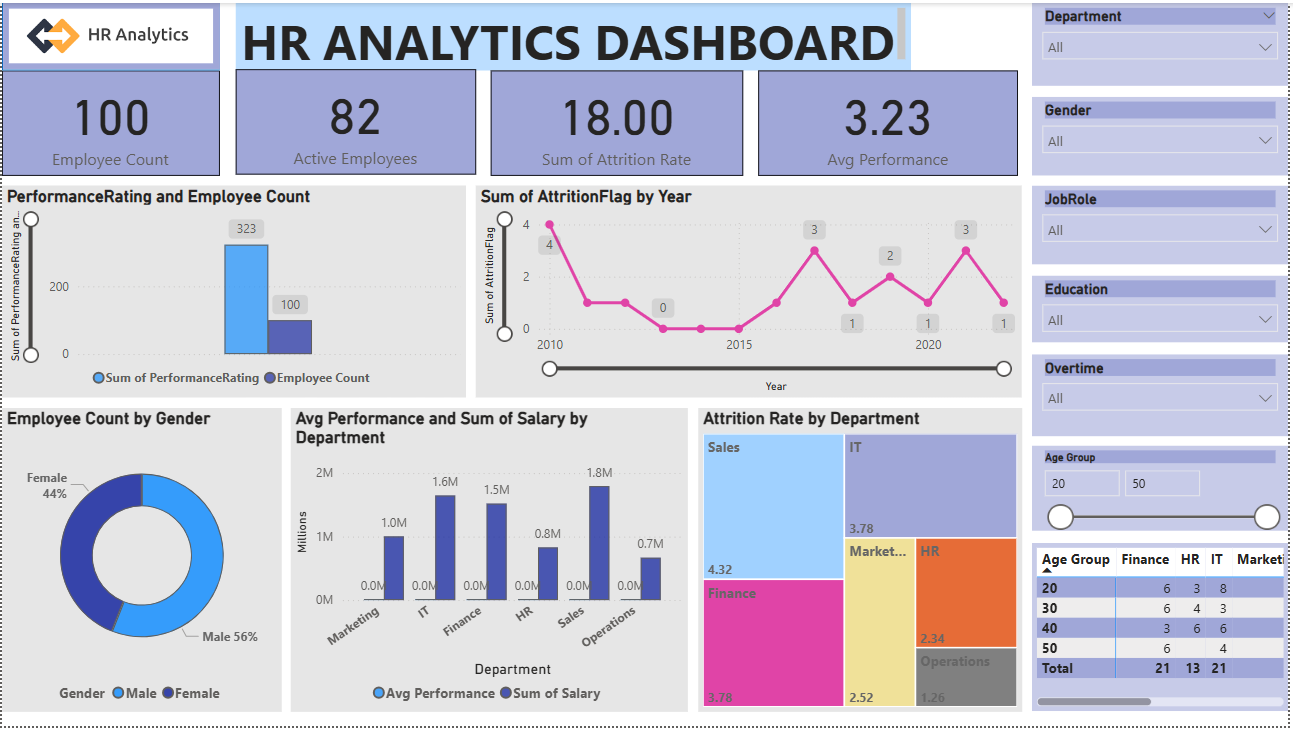

The dashboard page shown, as its layout file describes it:
{"tool":"powerbi","page":{"name":"Page 1","canvas":[1280,720],"ordinal":0},"visuals":[{"type":"textbox","box":[232.6,0,671.7,67.2],"z":0},{"type":"card","fields":{"Values":["Sheet1.Employee Count"]},"box":[0,67.2,216.4,104.5],"z":1000},{"type":"card","fields":{"Values":["Sheet1.Active Employees"]},"box":[232.6,65.9,238.8,104.5],"z":2000},{"type":"card","fields":{"Values":["Sum(Sheet1.Attrition Rate)"]},"box":[486.4,67.2,251.3,104.5],"z":3000},{"type":"card","fields":{"Values":["Sheet1.Avg Performance"]},"box":[752.6,67.2,258.7,104.5],"z":4000},{"type":"clusteredColumnChart","title":" PerformanceRating and Employee Count","fields":{"Y":["Sum(Sheet1.PerformanceRating)","Sheet1.Employee Count"]},"box":[0,181.2,461.2,210],"z":5000},{"type":"lineChart","fields":{"Category":["Sheet1.HireDate.Variation.Date Hierarchy.Year","Sheet1.HireDate.Variation.Date Hierarchy.Month"],"Y":["Sum(Sheet1.AttritionFlag)"]},"box":[472,181,543,210],"z":6000},{"type":"donutChart","fields":{"Category":["Sheet1.Gender"],"Y":["Sheet1.Employee Count"]},"box":[0,402.5,278.8,302.5],"z":7000},{"type":"clusteredColumnChart","fields":{"Category":["Sheet1.Department"],"Y":["Sheet1.Avg Performance","Sum(Sheet1.Salary)"]},"box":[287.5,402.5,395,302.5],"z":8000},{"type":"treemap","title":" Attrition Rate by Department","fields":{"Group":["Sheet1.Department"],"Values":["Sum(Sheet1.Attrition Rate)"]},"box":[692.5,402.5,322.5,302.5],"z":9000},{"type":"slicer","fields":{"Values":["Sheet1.Department"]},"box":[1025,0,255,82.5],"z":10000},{"type":"slicer","fields":{"Values":["Sheet1.JobRole"]},"box":[1025,181.2,255,78.8],"z":11000},{"type":"slicer","fields":{"Values":["Sheet1.Gender"]},"box":[1025,93.8,255,78.8],"z":12000},{"type":"slicer","fields":{"Values":["Sheet1.Education"]},"box":[1025,271.2,255,66.2],"z":13000},{"type":"slicer","fields":{"Values":["Sheet1.Overtime"]},"box":[1025,350,255,81.2],"z":14000},{"type":"slicer","fields":{"Values":["Sheet1.Age (bins)"]},"box":[1025,440,255,85],"z":15000},{"type":"pivotTable","fields":{"Rows":["Sheet1.Age Group"],"Columns":["Sheet1.Department"],"Values":["Sheet1.Employee Count"]},"box":[1025,537.5,255,167.5],"z":16000},{"type":"shape","box":[0,0,216.4,67.2],"z":17000},{"type":"image","box":[1.2,0,215.2,65.9],"z":18000}]}

Visuals, with their boxes in screenshot pixels (x1, y1, x2, y2), scaled from the page's 1280x720 canvas onto the 1293x729 screenshot:
textbox: Rect(235, 0, 913, 68)
card - Sheet1.Employee Count: Rect(0, 68, 219, 174)
card - Sheet1.Active Employees: Rect(235, 67, 476, 173)
card - Sum(Sheet1.Attrition Rate): Rect(491, 68, 745, 174)
card - Sheet1.Avg Performance: Rect(760, 68, 1022, 174)
" PerformanceRating and Employee Count" clusteredColumnChart: Rect(0, 183, 466, 396)
lineChart - Sheet1.HireDate.Variation.Date Hierarchy.Year x Sheet1.HireDate.Variation.Date Hierarchy.Month: Rect(477, 183, 1025, 396)
donutChart - Sheet1.Gender x Sheet1.Employee Count: Rect(0, 408, 282, 714)
clusteredColumnChart - Sheet1.Department x Sheet1.Avg Performance: Rect(290, 408, 689, 714)
" Attrition Rate by Department" treemap: Rect(700, 408, 1025, 714)
slicer - Sheet1.Department: Rect(1035, 0, 1292, 84)
slicer - Sheet1.JobRole: Rect(1035, 183, 1292, 263)
slicer - Sheet1.Gender: Rect(1035, 95, 1292, 175)
slicer - Sheet1.Education: Rect(1035, 275, 1292, 342)
slicer - Sheet1.Overtime: Rect(1035, 354, 1292, 437)
slicer - Sheet1.Age (bins): Rect(1035, 446, 1292, 532)
pivotTable - Sheet1.Age Group x Sheet1.Department: Rect(1035, 544, 1292, 714)
shape: Rect(0, 0, 219, 68)
image: Rect(1, 0, 219, 67)
